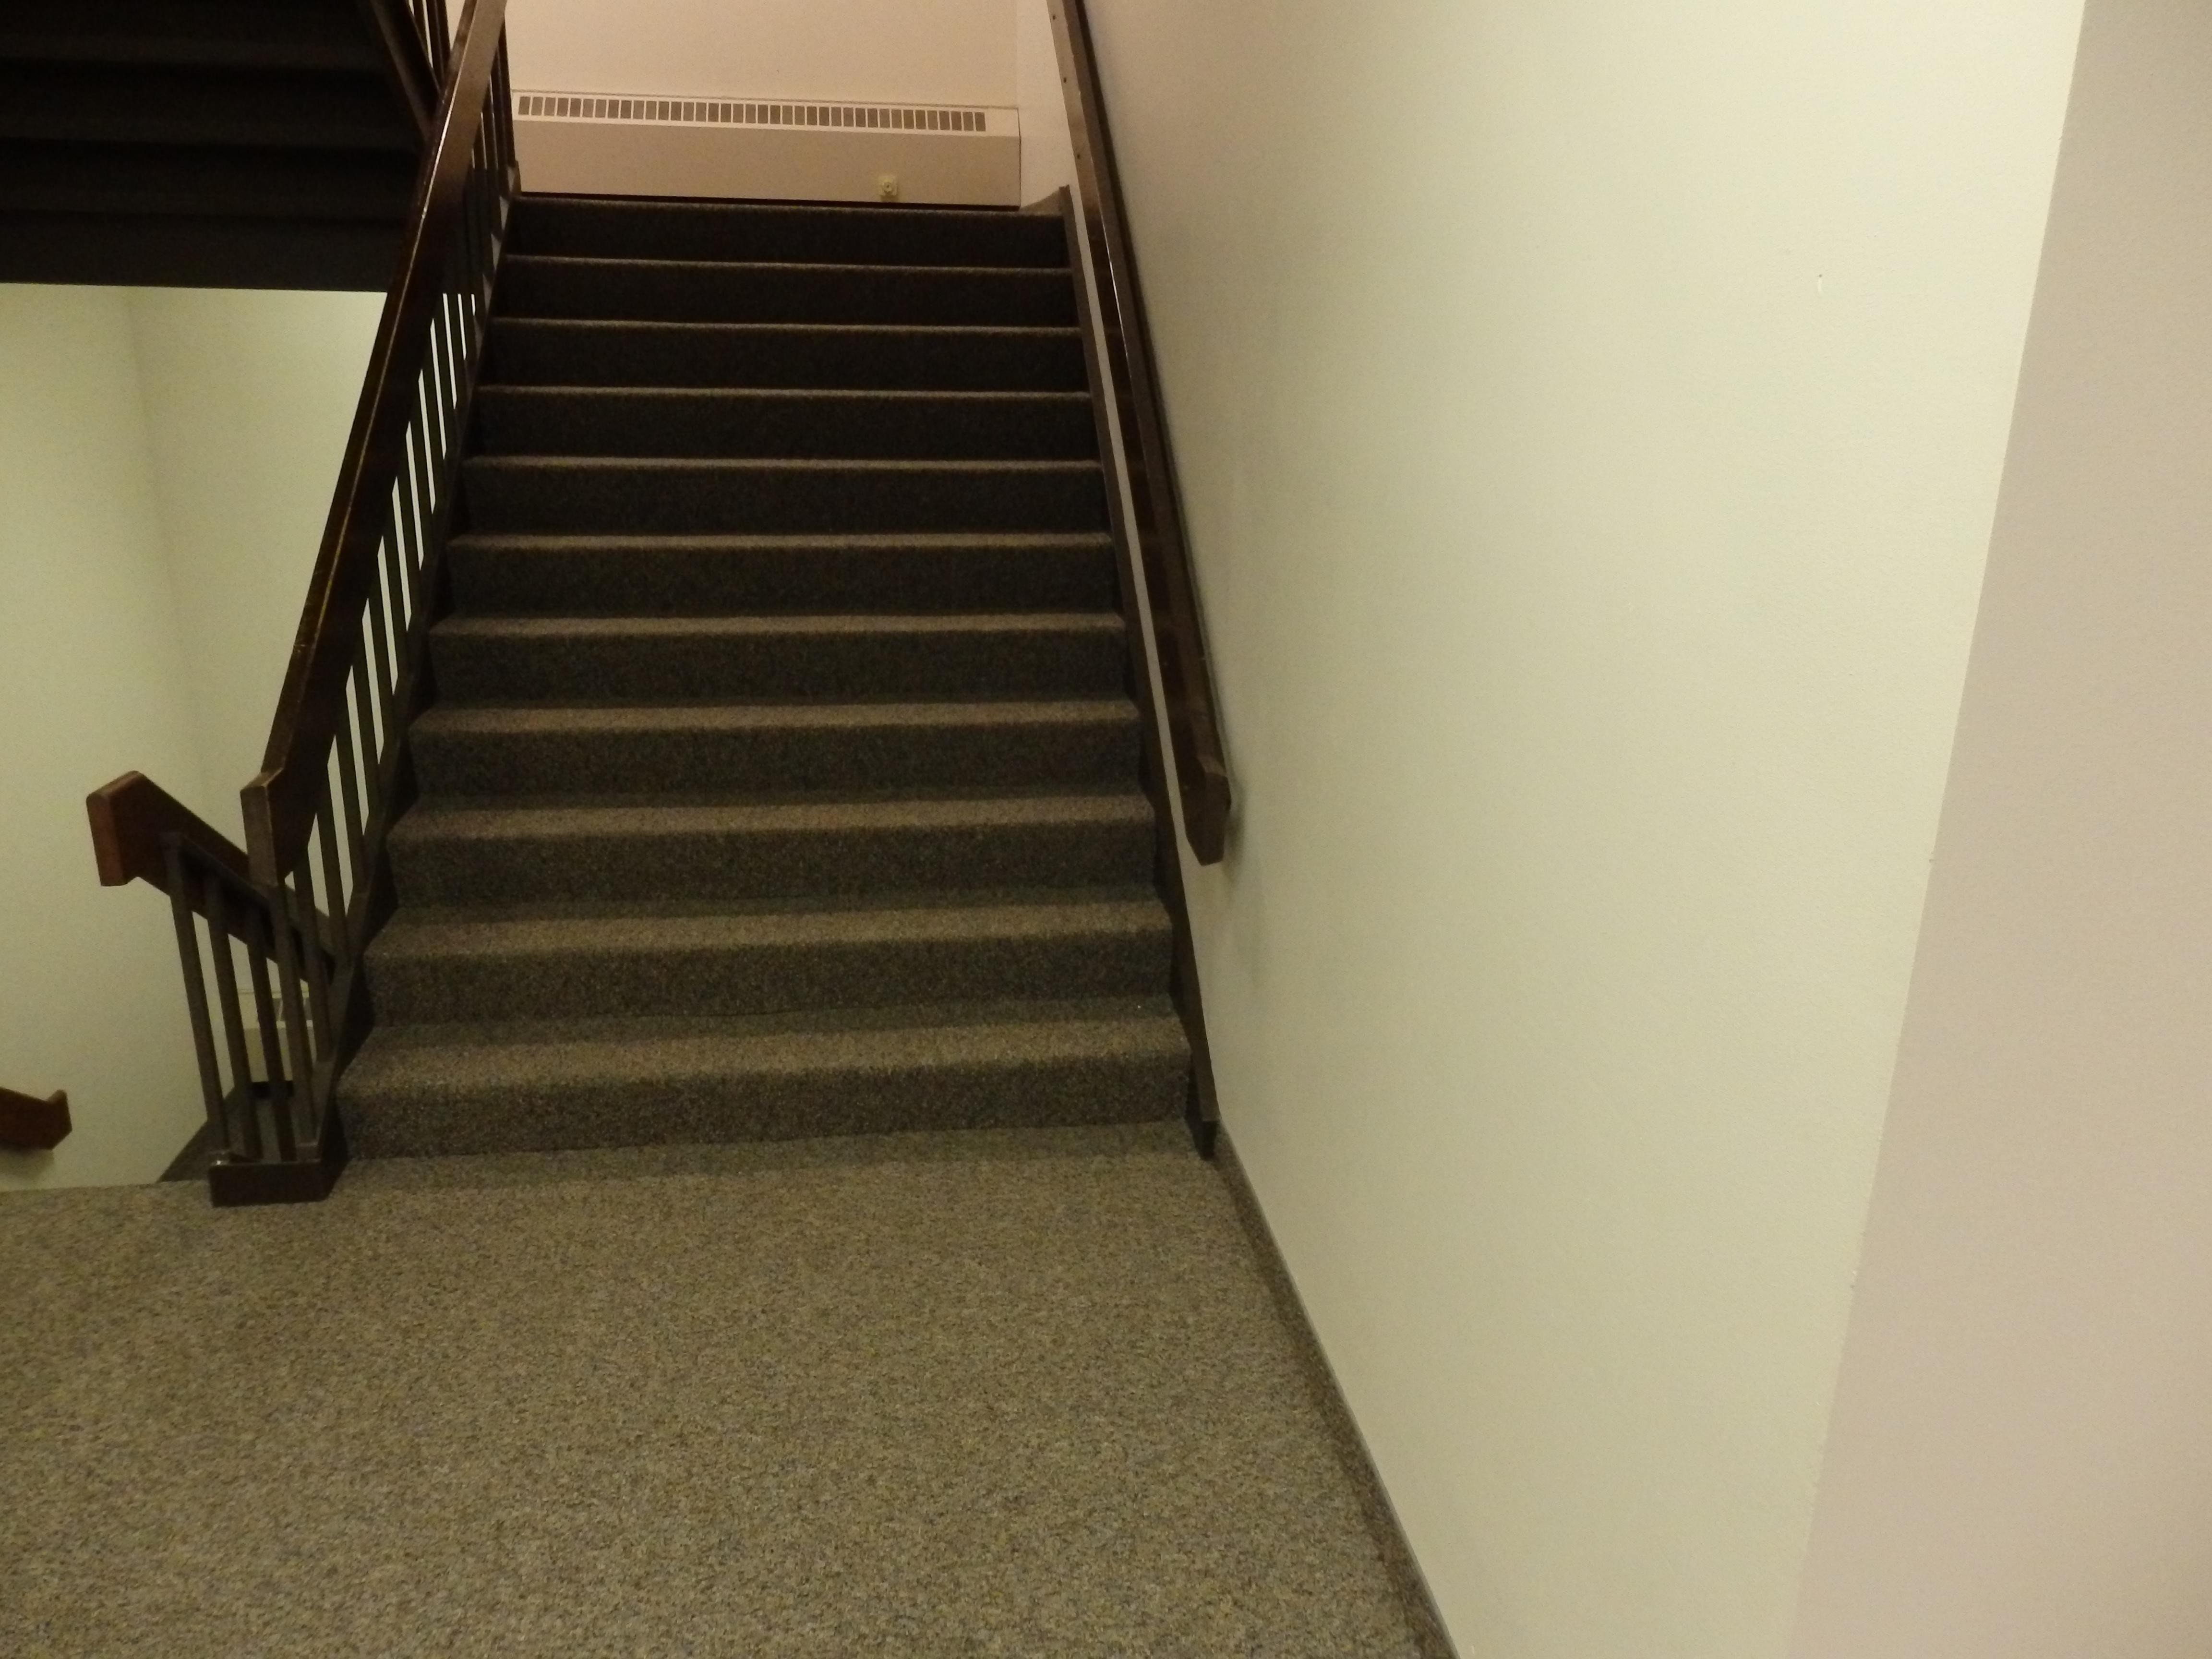stairs_up: (481, 162, 1118, 1126)
